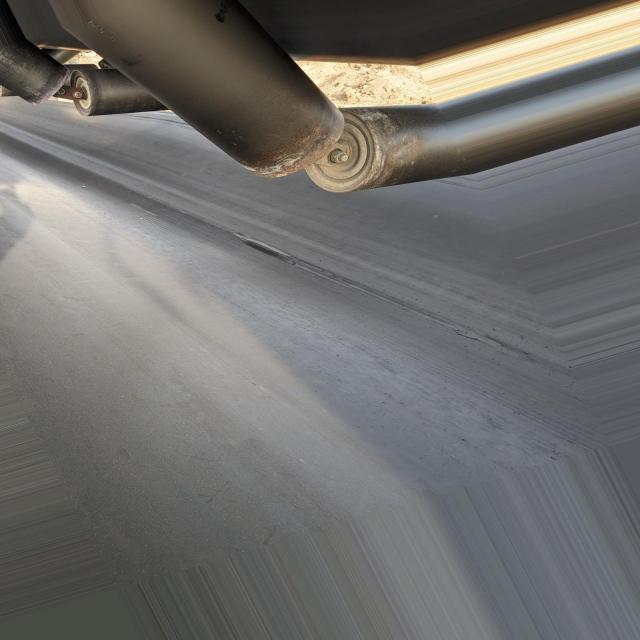Roller: (69, 0, 342, 178), (304, 105, 453, 195), (69, 63, 167, 113), (0, 45, 73, 103)
impact damage: (229, 228, 293, 262)
